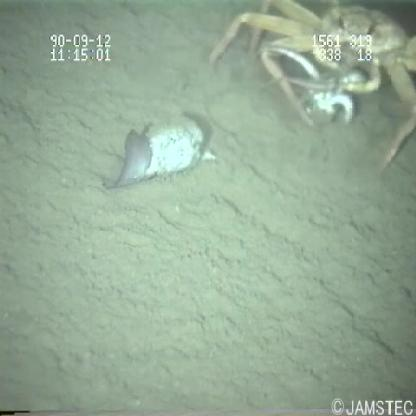Bio: (202, 1, 416, 177), (96, 110, 220, 190)
